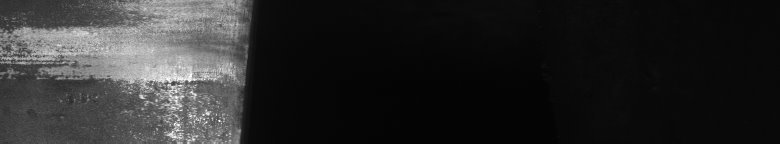kb: (4, 13, 228, 136)
